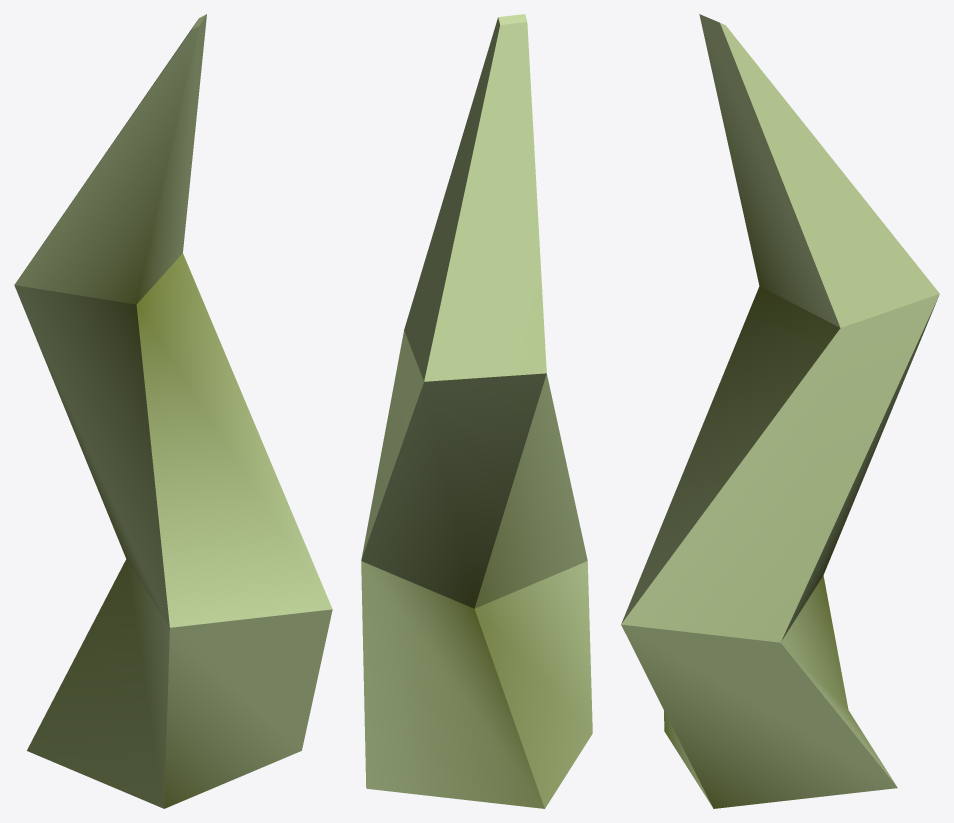
File: Mix_Bone_06.fbx
The picture shows the model from 3 angles, left to right: view 1: azimuth 30°, elevation 25°; view 2: azimuth 150°, elevation 25°; view 3: azimuth 270°, elevation 25°; orthographic projection. The views are drawn at different scales.
Visible parts, largest first — view 1: Mixed_Bone_06; view 2: Mixed_Bone_06; view 3: Mixed_Bone_06.
Boxes of the visible parts, bbox=[...] form: Mixed_Bone_06: bbox=[14, 14, 332, 808]; Mixed_Bone_06: bbox=[361, 14, 592, 808]; Mixed_Bone_06: bbox=[621, 14, 939, 808].
Bounding box in the file's own units: 27890 × 85826 × 33410.
